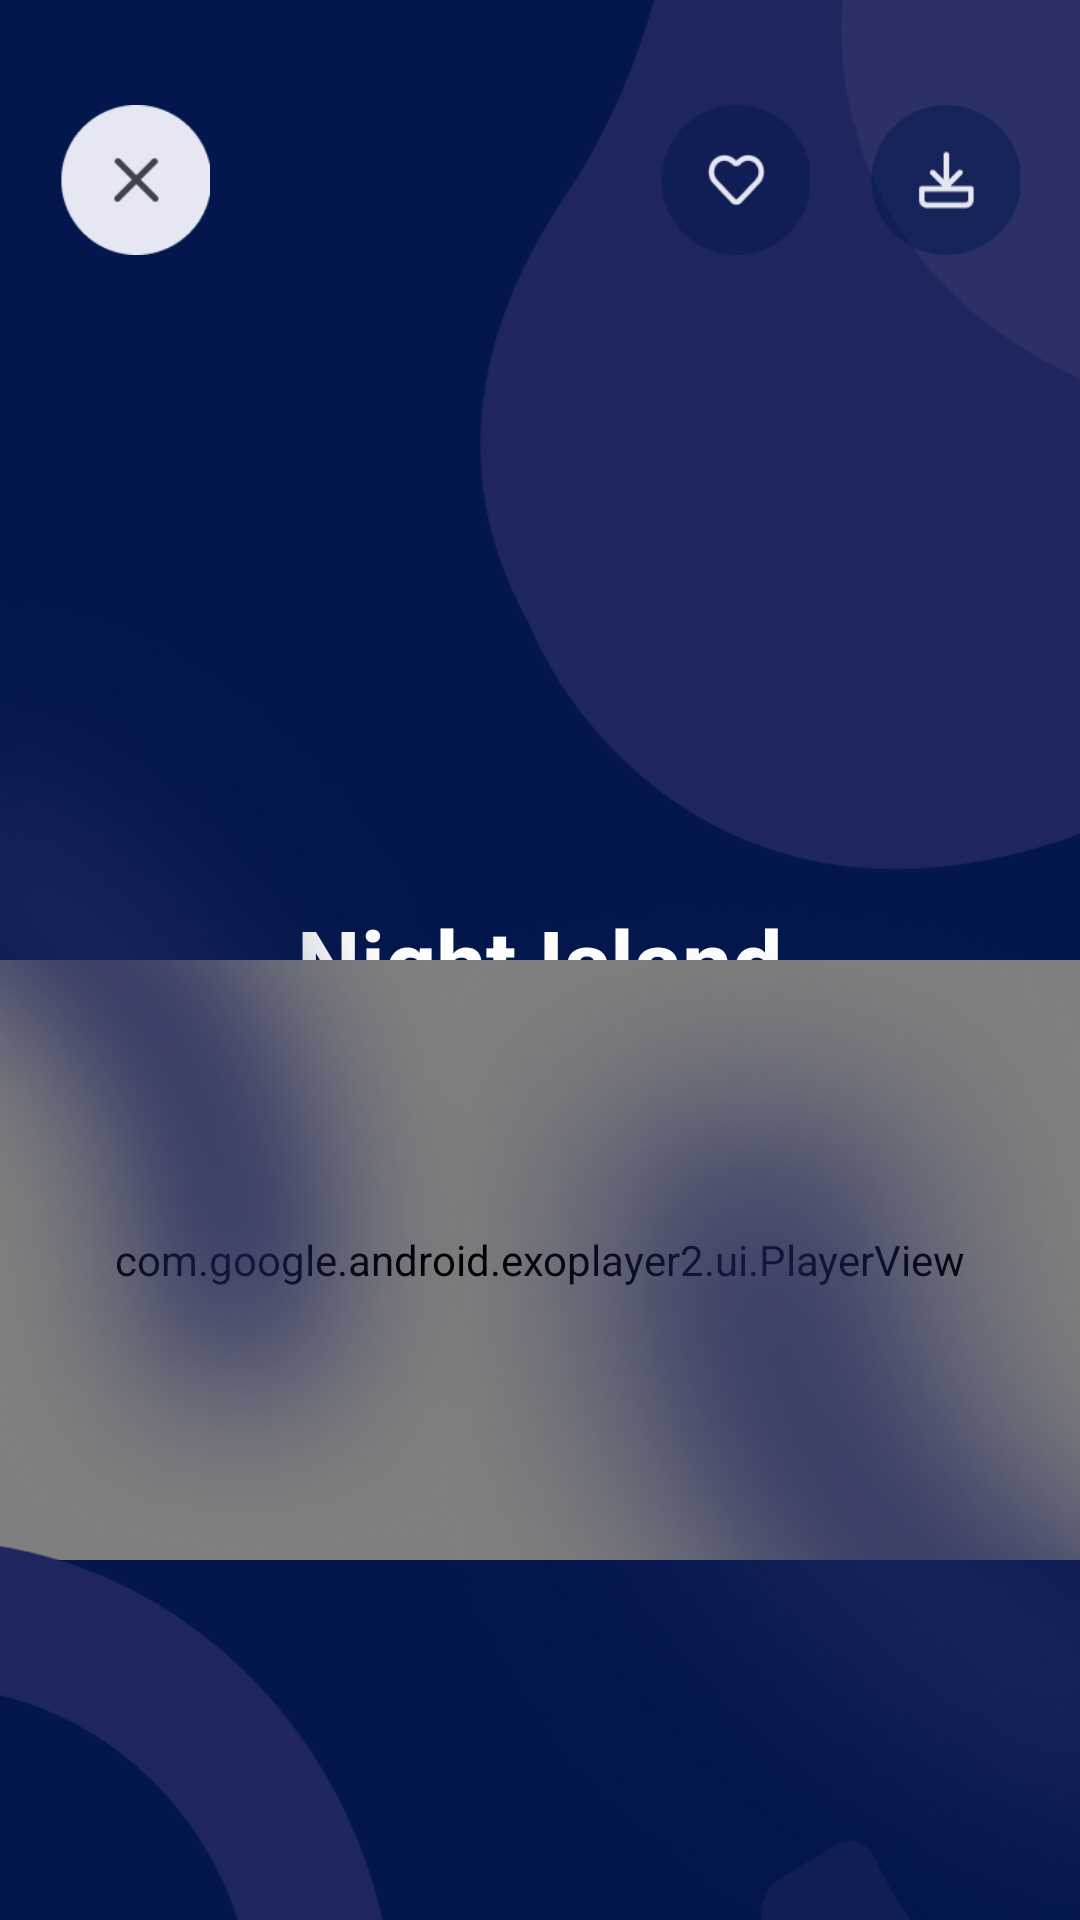

Screen size 1080×1920. Icon name, then its center in pixels as (x=x, y=y):
cross: (x=135, y=180)
download: (x=945, y=180)
love: (x=735, y=180)
